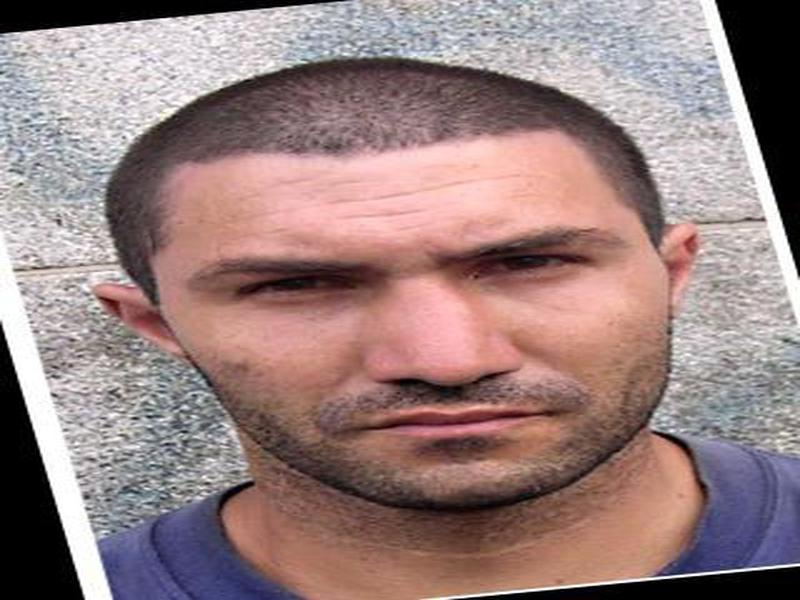without_mask: (153, 153, 666, 501)
